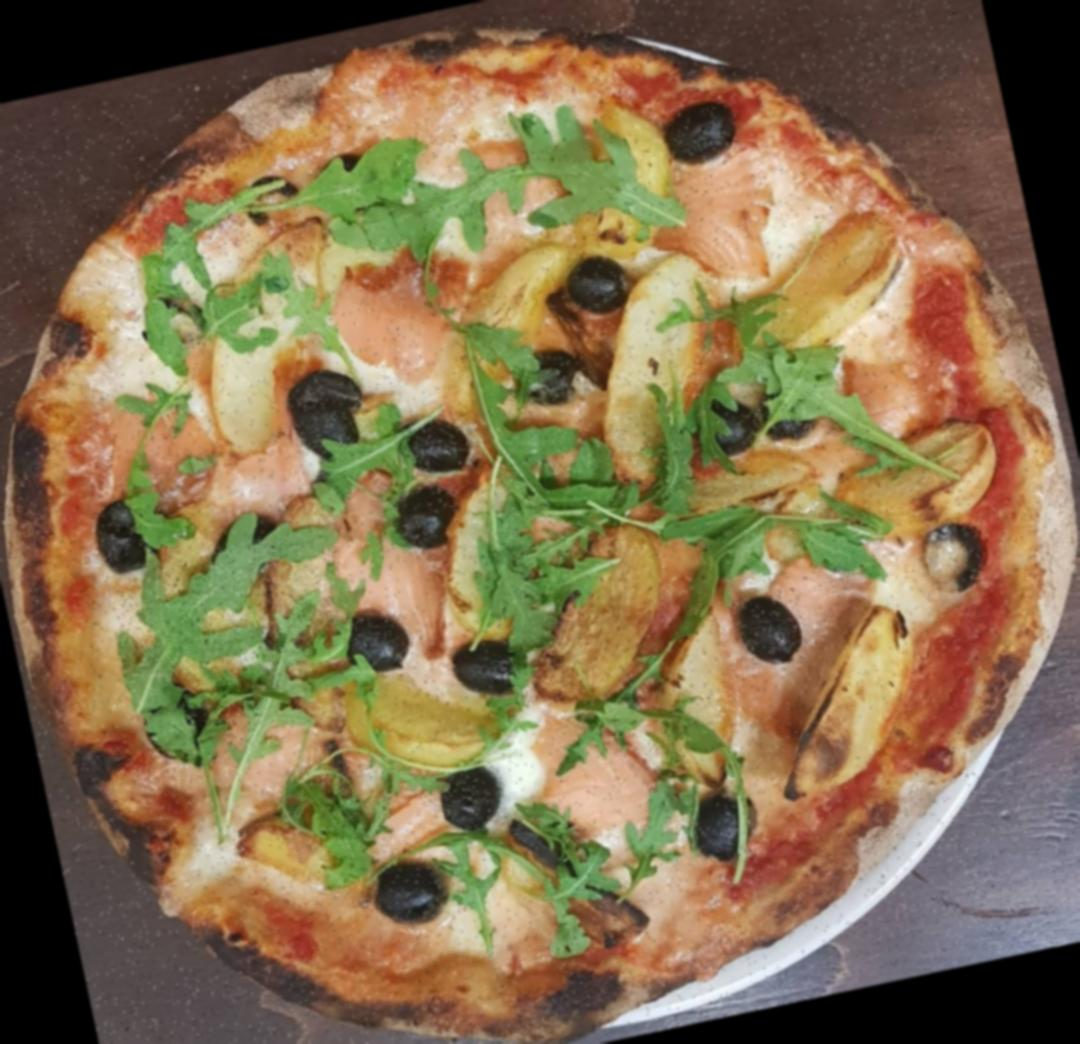Arugula: (294, 94, 642, 276), (102, 530, 348, 689), (124, 177, 326, 363), (480, 400, 699, 548), (654, 474, 878, 611), (462, 529, 602, 636), (276, 753, 394, 879), (208, 652, 323, 751), (571, 678, 697, 753)
Olives: (280, 364, 370, 468), (132, 672, 224, 768), (730, 586, 810, 670), (659, 92, 746, 169), (914, 518, 994, 596), (362, 852, 447, 925), (508, 339, 592, 412), (683, 783, 760, 862), (394, 405, 476, 477), (436, 759, 510, 835), (382, 482, 464, 549), (340, 606, 416, 678), (562, 248, 636, 320), (446, 628, 523, 696), (692, 388, 764, 460), (90, 495, 152, 576), (754, 376, 824, 442)
Pizza: (0, 0, 1080, 1044)
